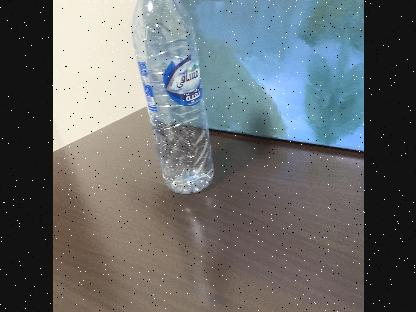Plastic Bottle: (131, 0, 213, 194)
